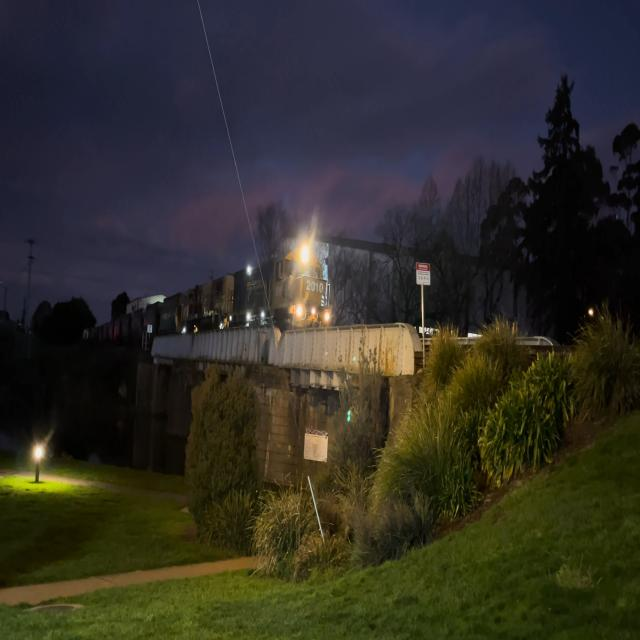locomotive: (228, 238, 333, 328), (182, 271, 234, 335)
